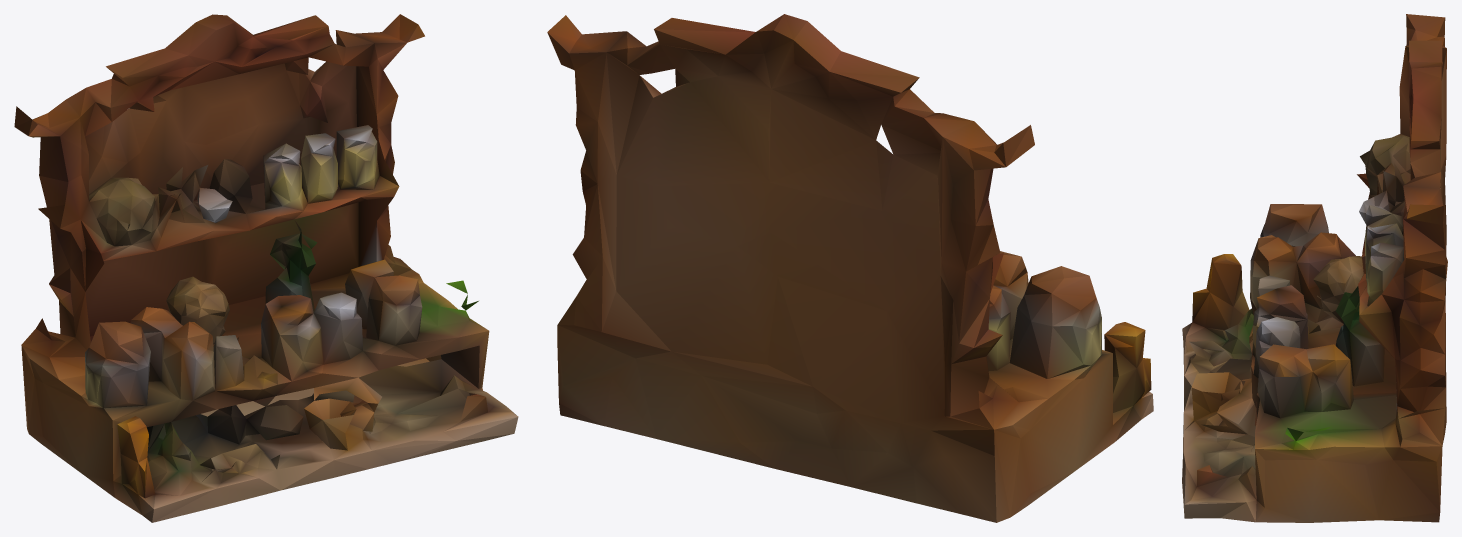
The model's file is bq_apothecary.vc2.glb.
3 views of the same model, side by side, from view 1: azimuth 30°, elevation 25°; view 2: azimuth 150°, elevation 25°; view 3: azimuth 270°, elevation 25° (orthographic). The views are drawn at different scales.
Visible parts, largest first — view 1: bq_apothecary; view 2: bq_apothecary; view 3: bq_apothecary.
Part boxes in pixels (left/top/right/bottom): bq_apothecary: left=14, top=14, right=518, bottom=522; bq_apothecary: left=547, top=14, right=1153, bottom=522; bq_apothecary: left=1182, top=14, right=1447, bottom=522.
Size of the model in its own units: 1.99 by 1.77 by 1.15.
